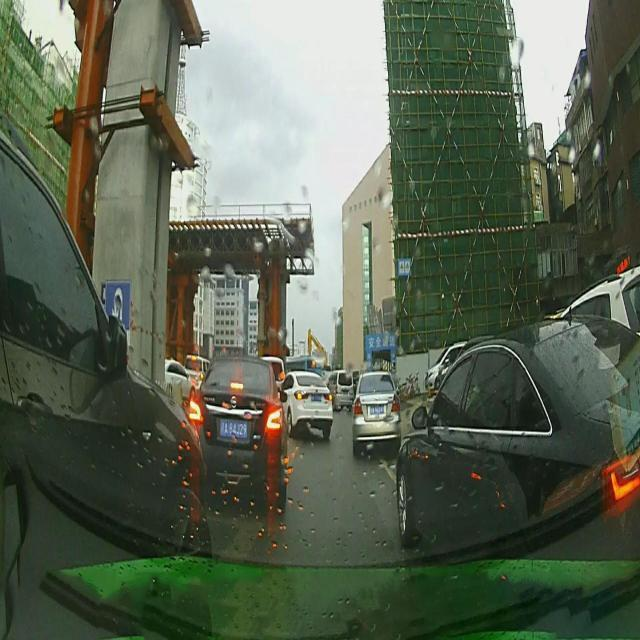car: (0, 128, 211, 560), (396, 314, 640, 556), (190, 352, 288, 514), (351, 372, 401, 454), (282, 368, 333, 438), (327, 371, 355, 410)
